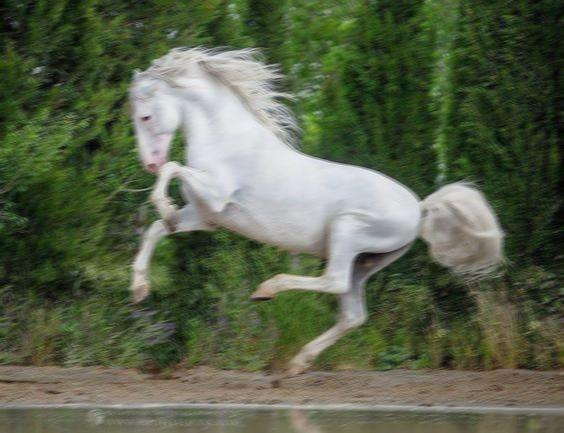horse: (125, 43, 510, 377)
